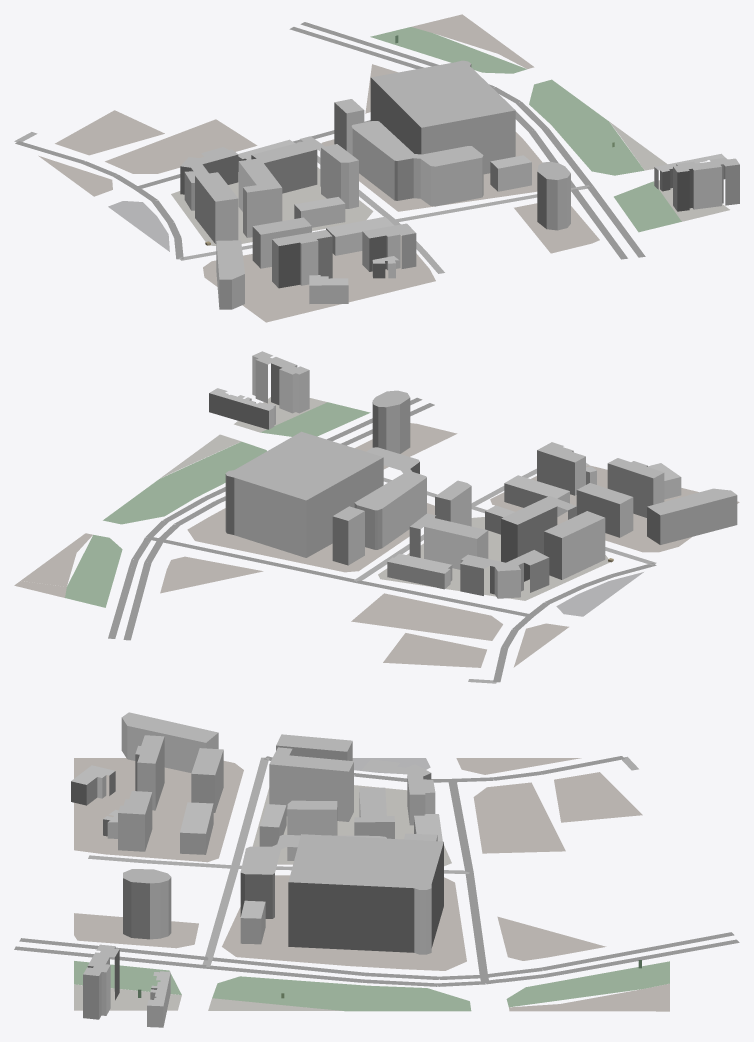
3 views of the same model, one above another, from view 1: azimuth 30°, elevation 25°; view 2: azimuth 150°, elevation 25°; view 3: azimuth 270°, elevation 25° (orthographic). The views are drawn at different scales.
Bounding box in the file's own units: 557 × 60.24 × 609.
